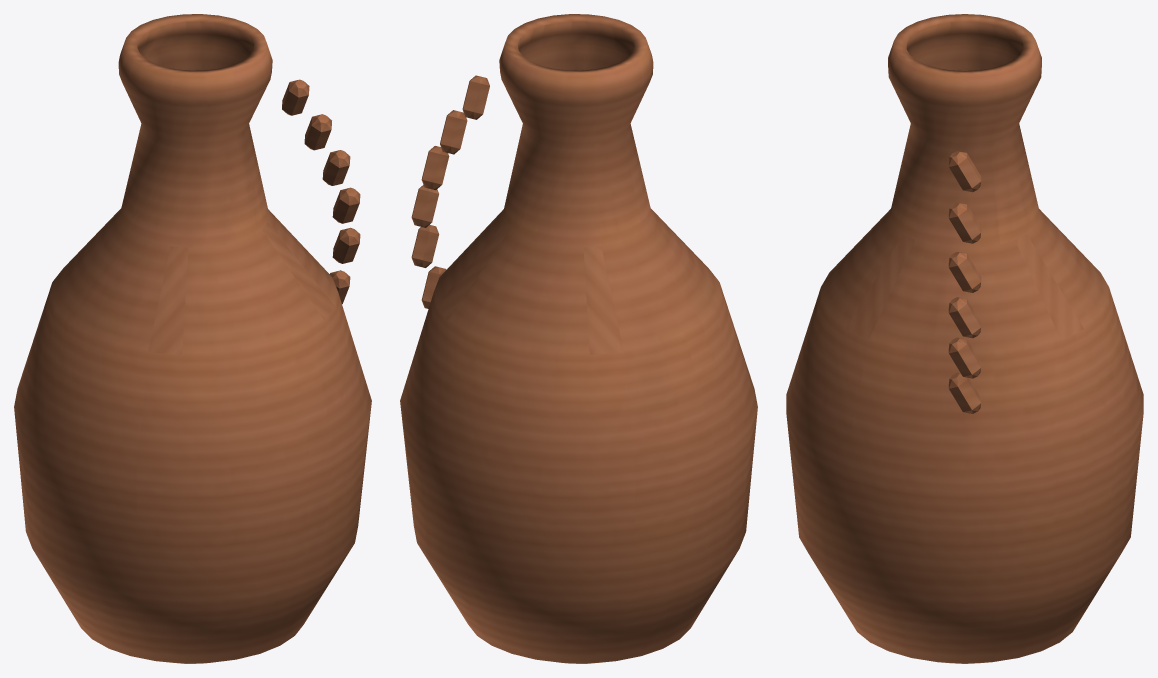
The model's file is p_waterjug.glb.
The picture shows the model from 3 angles, left to right: view 1: azimuth 30°, elevation 25°; view 2: azimuth 150°, elevation 25°; view 3: azimuth 270°, elevation 25°; orthographic projection.
Parts seen in each view (by area): view 1: waterjug; view 2: waterjug; view 3: waterjug.
Part boxes in pixels (x1,y1,x2,y2): waterjug: [14, 14, 371, 663]; waterjug: [400, 14, 757, 663]; waterjug: [786, 14, 1143, 663].
Bounding box in the file's own units: 0.4276 × 0.76 × 0.4127.
Materials: 1 (1 with a texture image).
